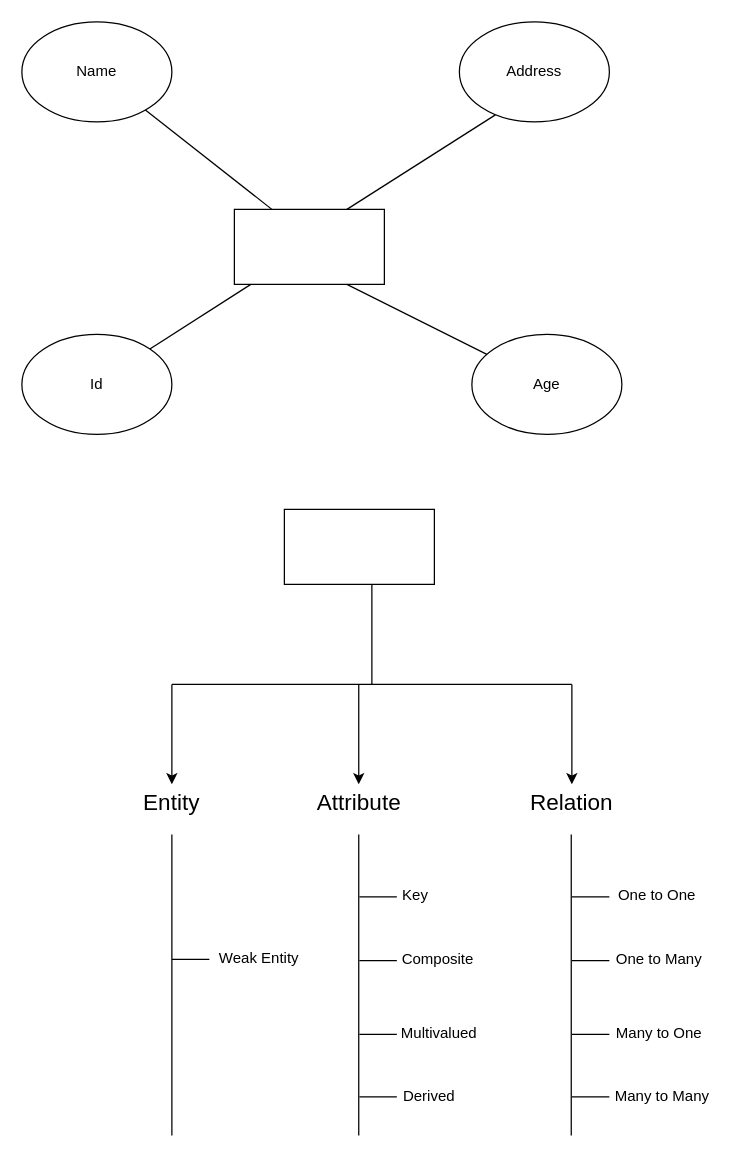
Some shapes in this 756 by 1159 pixel diagram are drawn without their labels. The centre of each missing label's shape, as x and y in pixels:
ER Model: (x=358, y=546)
Student: (x=308, y=246)
